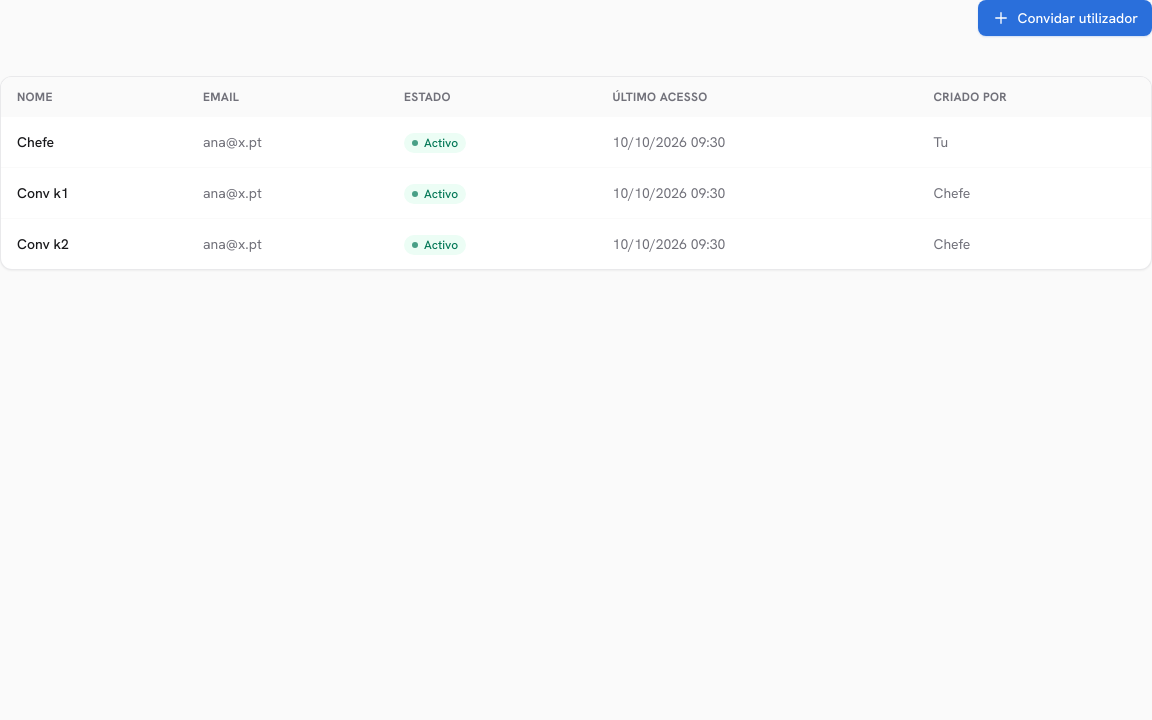
Equipa — fase 3 · fecho (remover com convidados, desactivado pelo dono, motivo visível) › dono: remover um membro com 2 convidados avisa que passam para ti
The image size is (1152, 720).
Click the row named "Abrir Chefe" at (36, 142), box 1,117 -> 1151,168
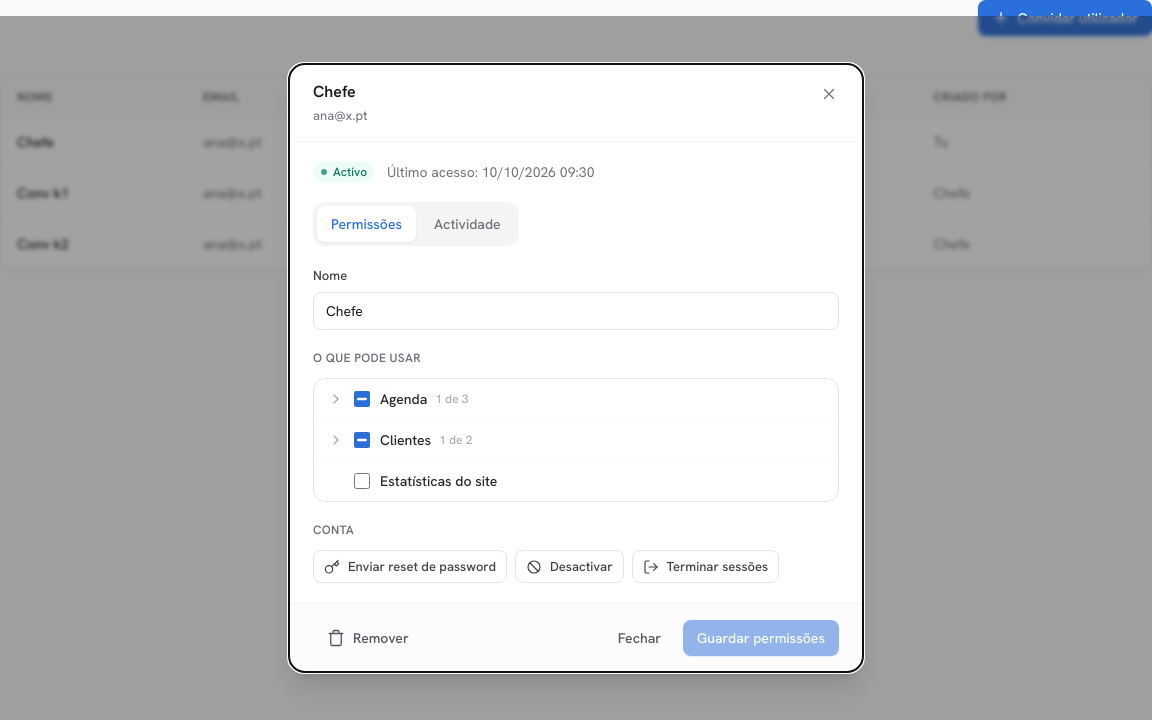
Click the button "Remover" at (368, 638), box 313,620 -> 423,656
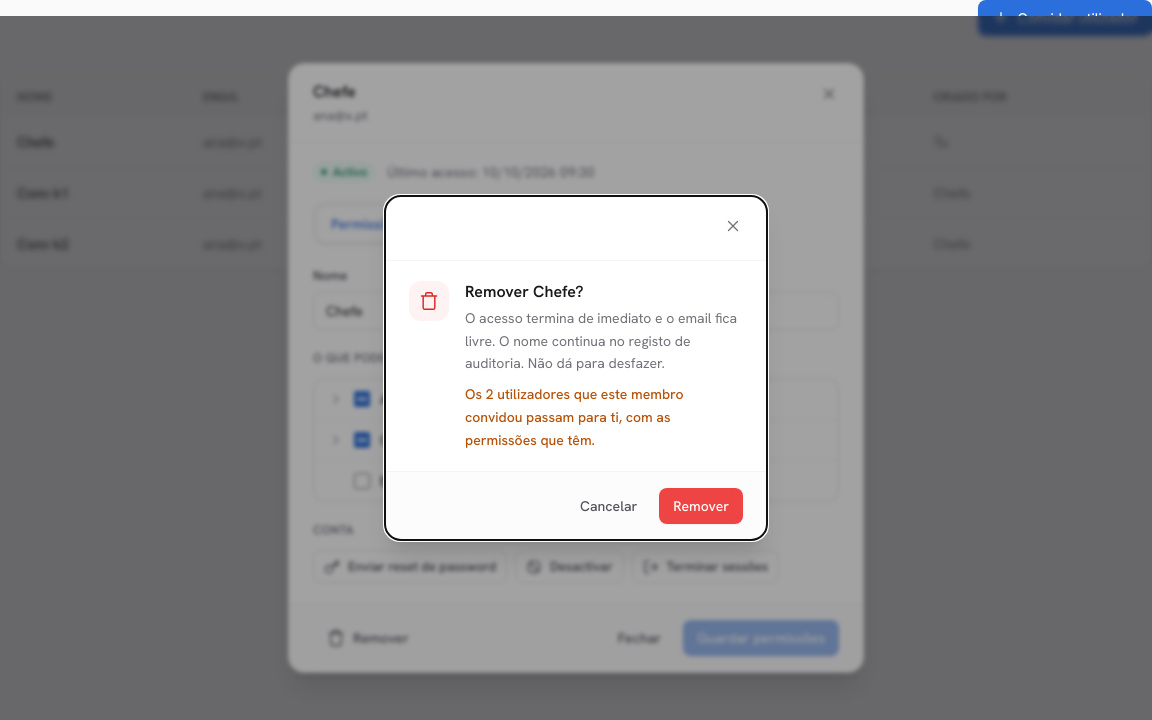
Now the text with test id "remove-guests-note" shows "Os 2 utilizadores que este membro convidou passam para ti, com as permissões que têm.", box 465,385 -> 684,448
